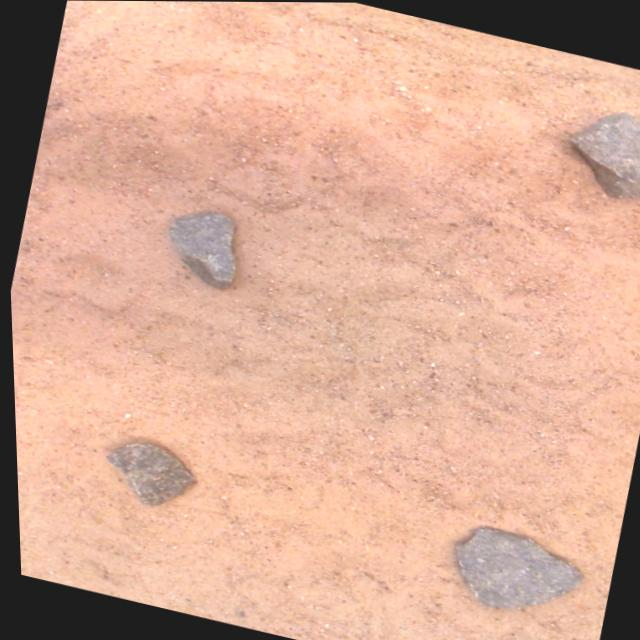rock: (451, 526, 576, 607), (570, 111, 640, 196), (102, 443, 191, 505), (167, 211, 233, 288)
